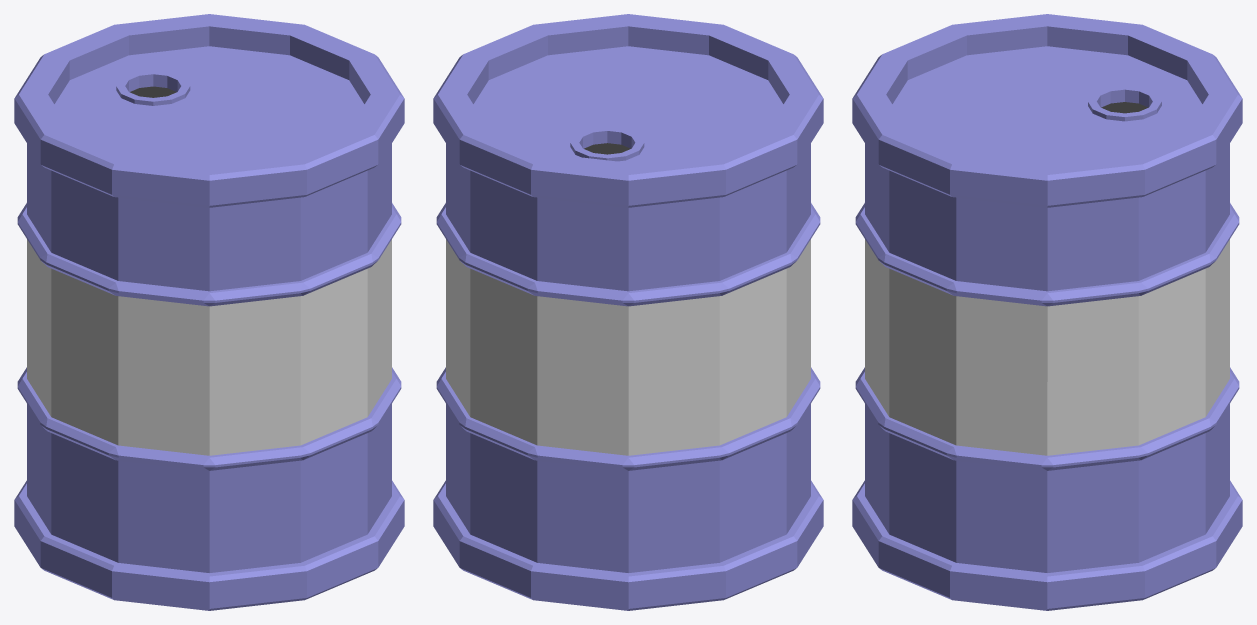
Rendered from Barrel A.glb.
The picture shows the model from 3 angles, left to right: view 1: azimuth 30°, elevation 25°; view 2: azimuth 150°, elevation 25°; view 3: azimuth 270°, elevation 25°; orthographic projection.
Visible parts, largest first — view 1: Barrel A; view 2: Barrel A; view 3: Barrel A.
Boxes of the visible parts, box(x1,y1,x2,y2) form: Barrel A: box(14, 14, 404, 610); Barrel A: box(433, 14, 823, 610); Barrel A: box(852, 14, 1242, 610).
Size of the model in its own units: 120 by 148 by 120.
